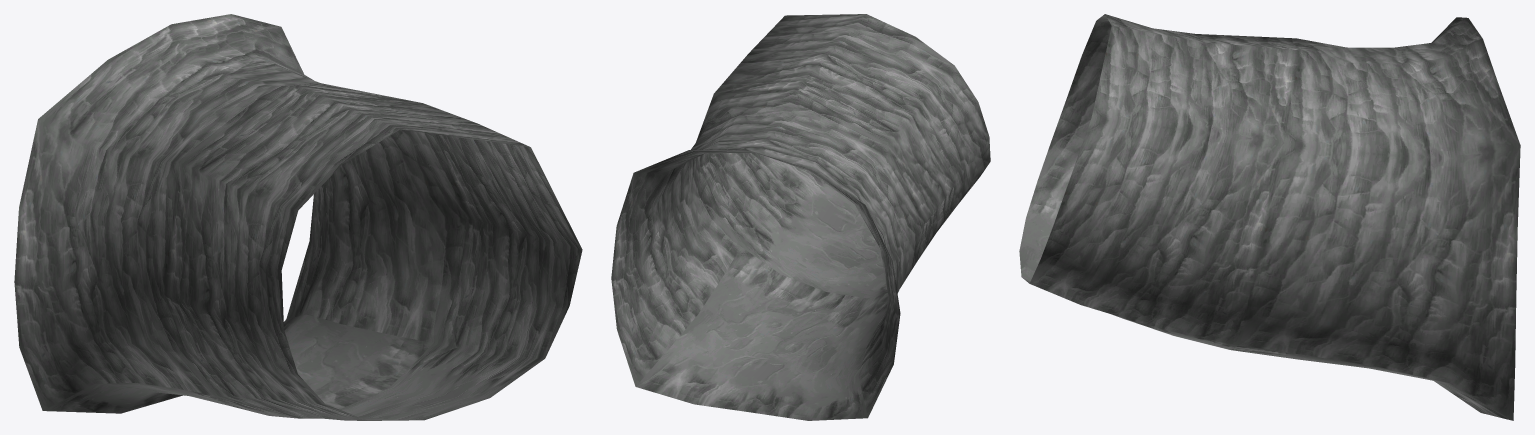
The model's file is SWORDLIGHT20_PS-AREA03_17.fbx.
3 views of the same model, side by side, from view 1: azimuth 30°, elevation 25°; view 2: azimuth 150°, elevation 25°; view 3: azimuth 270°, elevation 25° (orthographic). The views are drawn at different scales.
Parts seen in each view (by area): view 1: SWORDLIGHT20_PS-AREA03_17; view 2: SWORDLIGHT20_PS-AREA03_17; view 3: SWORDLIGHT20_PS-AREA03_17.
Part boxes in pixels (x1,y1,x2,y2): SWORDLIGHT20_PS-AREA03_17: (14,14,582,420); SWORDLIGHT20_PS-AREA03_17: (611,14,990,420); SWORDLIGHT20_PS-AREA03_17: (1019,14,1520,420).
Size of the model in its own units: 98840 by 100842 by 123059.
Materials: 3 (3 with a texture image).
